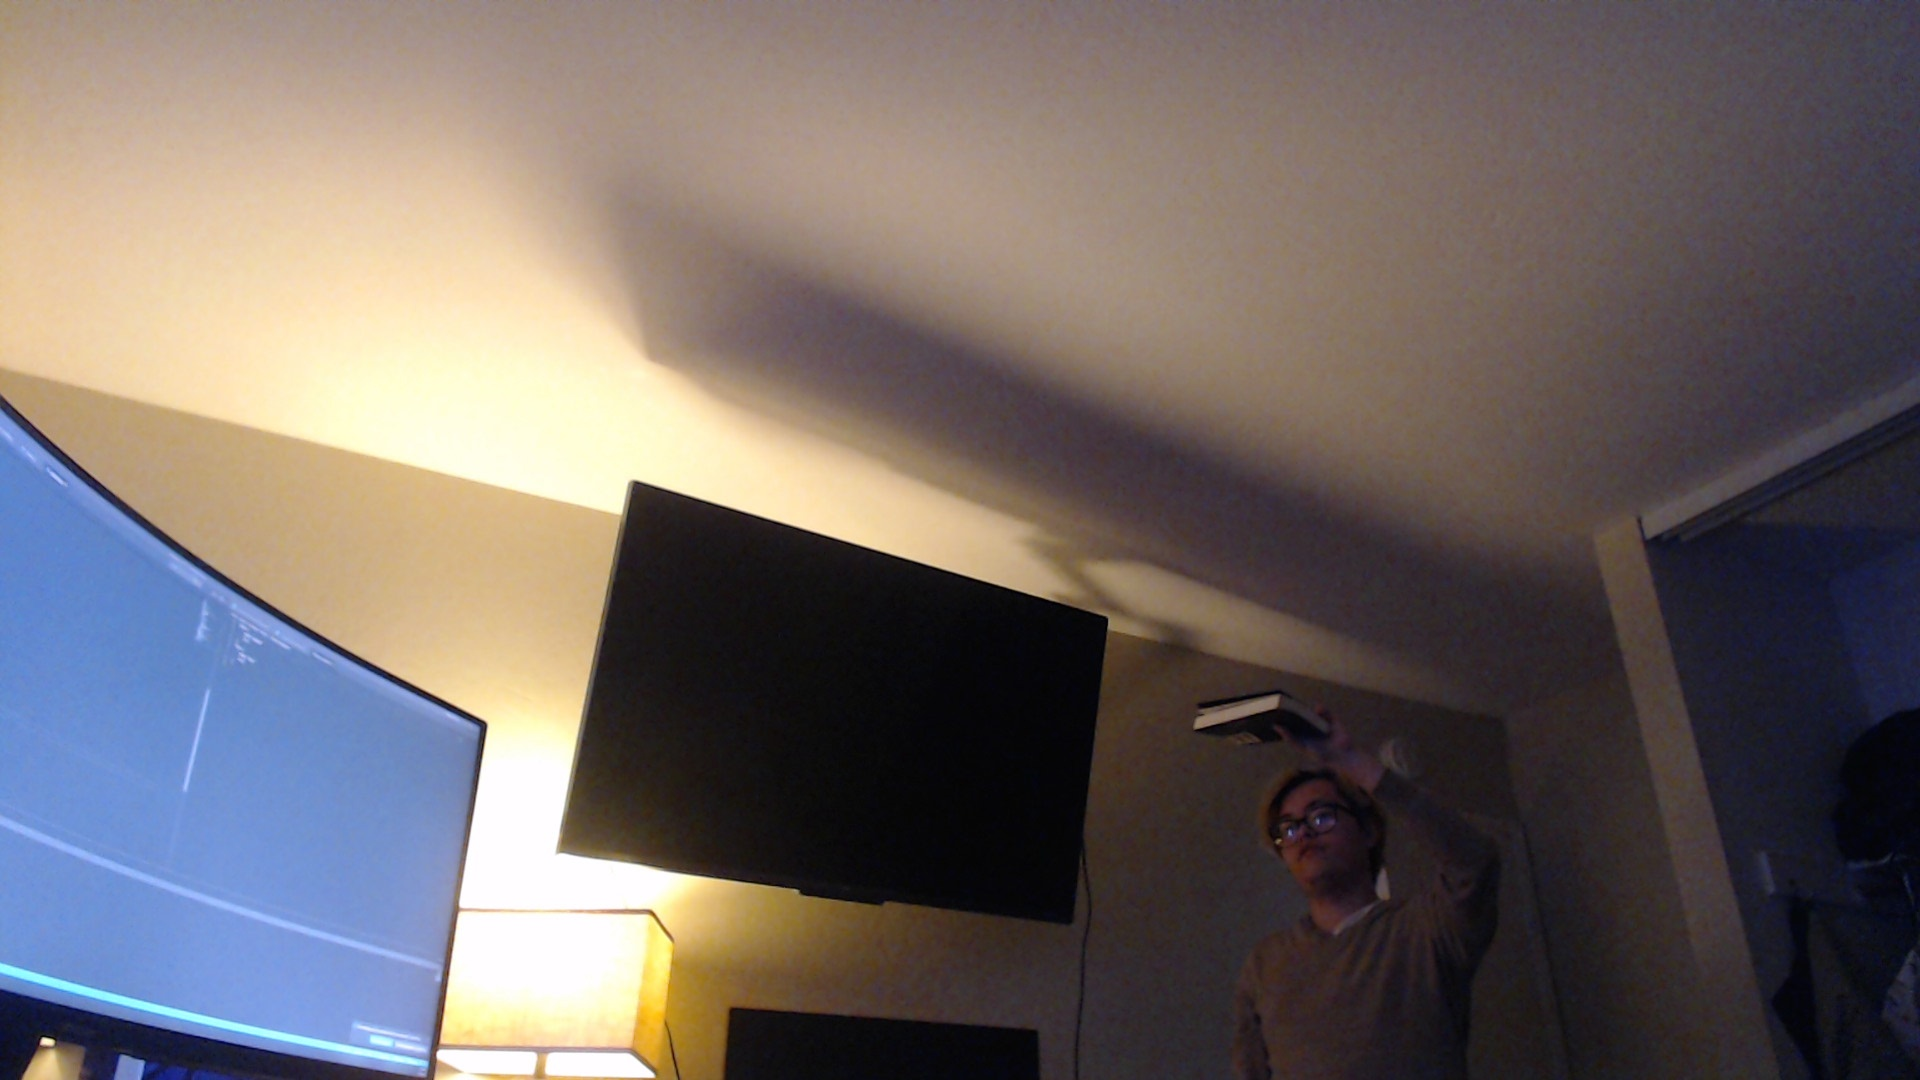book: (1189, 694, 1335, 746)
